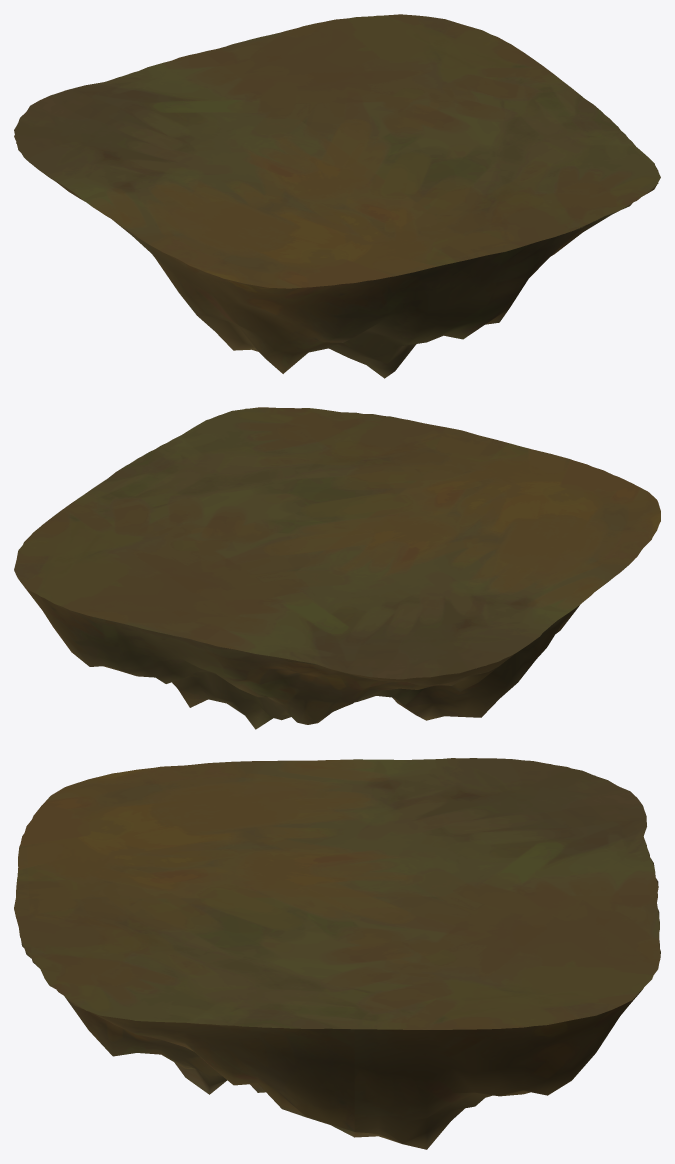
File: Puzzle2.fbx
3 renders of one model, top to bottom at view 1: azimuth 30°, elevation 25°; view 2: azimuth 150°, elevation 25°; view 3: azimuth 270°, elevation 25°, orthographic. The views are drawn at different scales.
Visible parts, largest first — view 1: Puzzle2; view 2: Puzzle2; view 3: Puzzle2.
Boxes of the visible parts, left/top/right/bottom form: Puzzle2: left=14, top=14, right=660, bottom=378; Puzzle2: left=14, top=407, right=660, bottom=729; Puzzle2: left=14, top=758, right=660, bottom=1149.
Size of the model in its own units: 184 by 65.92 by 185.
Materials: 1 (1 with a texture image).
